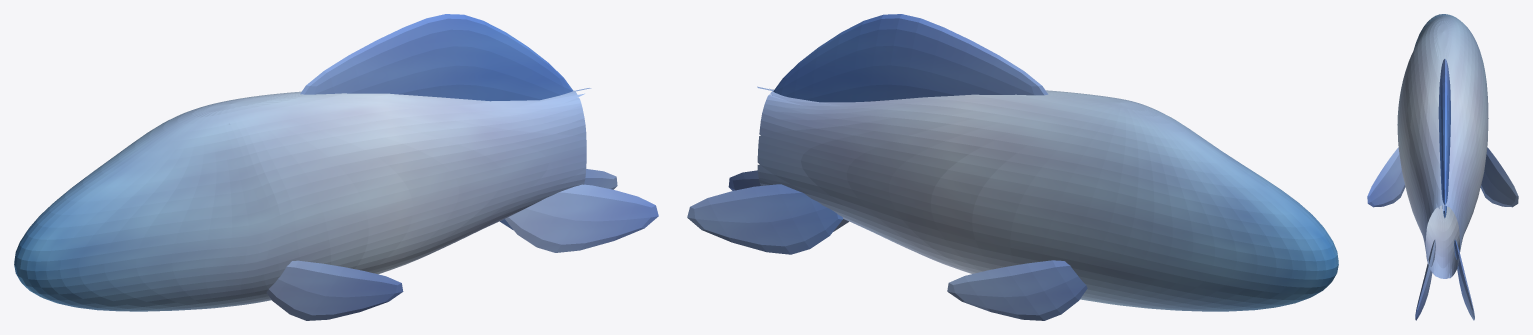
Rendered from bluefish body.fbx.
3 renders of one model, left to right at view 1: azimuth 30°, elevation 25°; view 2: azimuth 150°, elevation 25°; view 3: azimuth 270°, elevation 25°, orthographic. The views are drawn at different scales.
Parts seen in each view (by area): view 1: Sphere.001; view 2: Sphere.001; view 3: Sphere.001.
Boxes of the visible parts, <box> form: Sphere.001: <box>14,14,658,320</box>; Sphere.001: <box>687,14,1338,320</box>; Sphere.001: <box>1367,14,1518,320</box>.
Bounding box in the file's own units: 371 × 145 × 108.
Materials: 1 (1 with a texture image).
